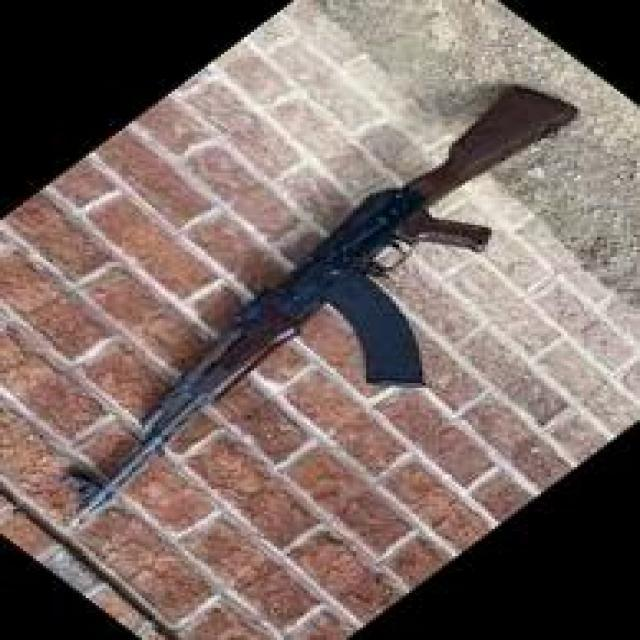weapon: (63, 82, 582, 514)
